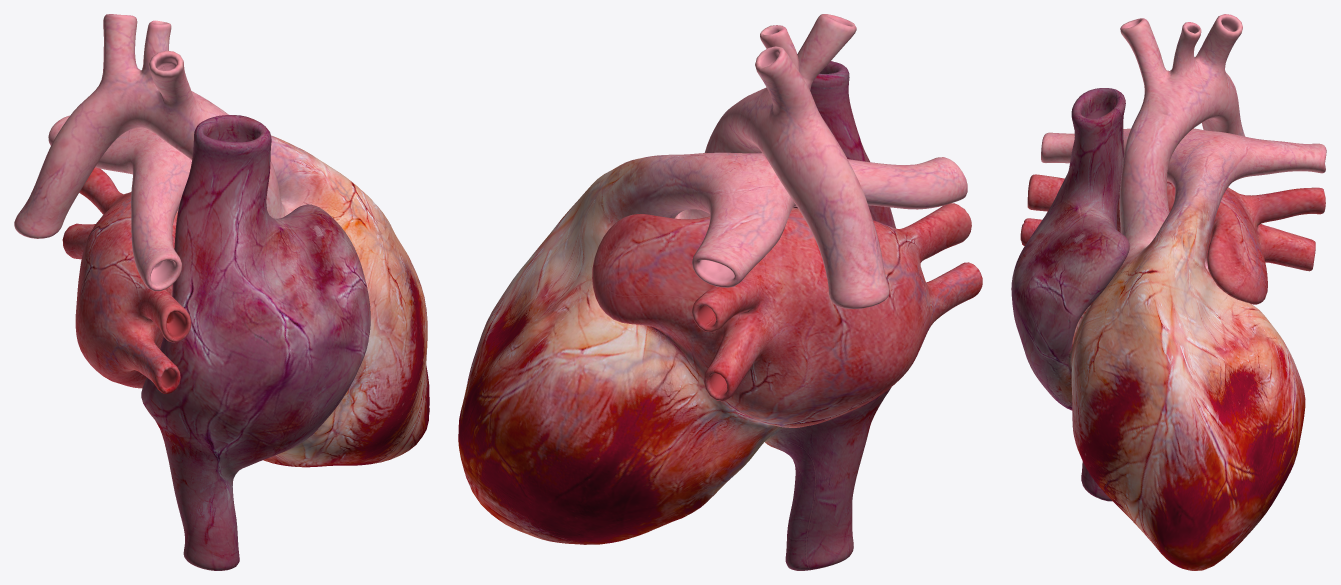
The picture shows the model from 3 angles, left to right: view 1: azimuth 30°, elevation 25°; view 2: azimuth 150°, elevation 25°; view 3: azimuth 270°, elevation 25°; orthographic projection. The views are drawn at different scales.
Parts seen in each view (by area): view 1: HEART_PRO; view 2: HEART_PRO; view 3: HEART_PRO.
Boxes of the visible parts, <box> form: HEART_PRO: <box>14,14,429,570</box>; HEART_PRO: <box>458,14,982,570</box>; HEART_PRO: <box>1011,14,1326,570</box>.
Size of the model in its own units: 640 by 819 by 504.
1 material, 1 textured.
